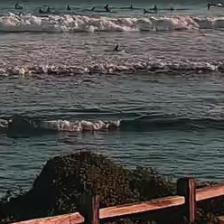surfer: (105, 6, 117, 13), (39, 8, 51, 14), (143, 8, 154, 14), (149, 5, 158, 11), (113, 45, 120, 52), (123, 5, 134, 9), (87, 6, 95, 11), (207, 3, 216, 7), (15, 3, 20, 9), (104, 4, 109, 10), (67, 4, 71, 10)
